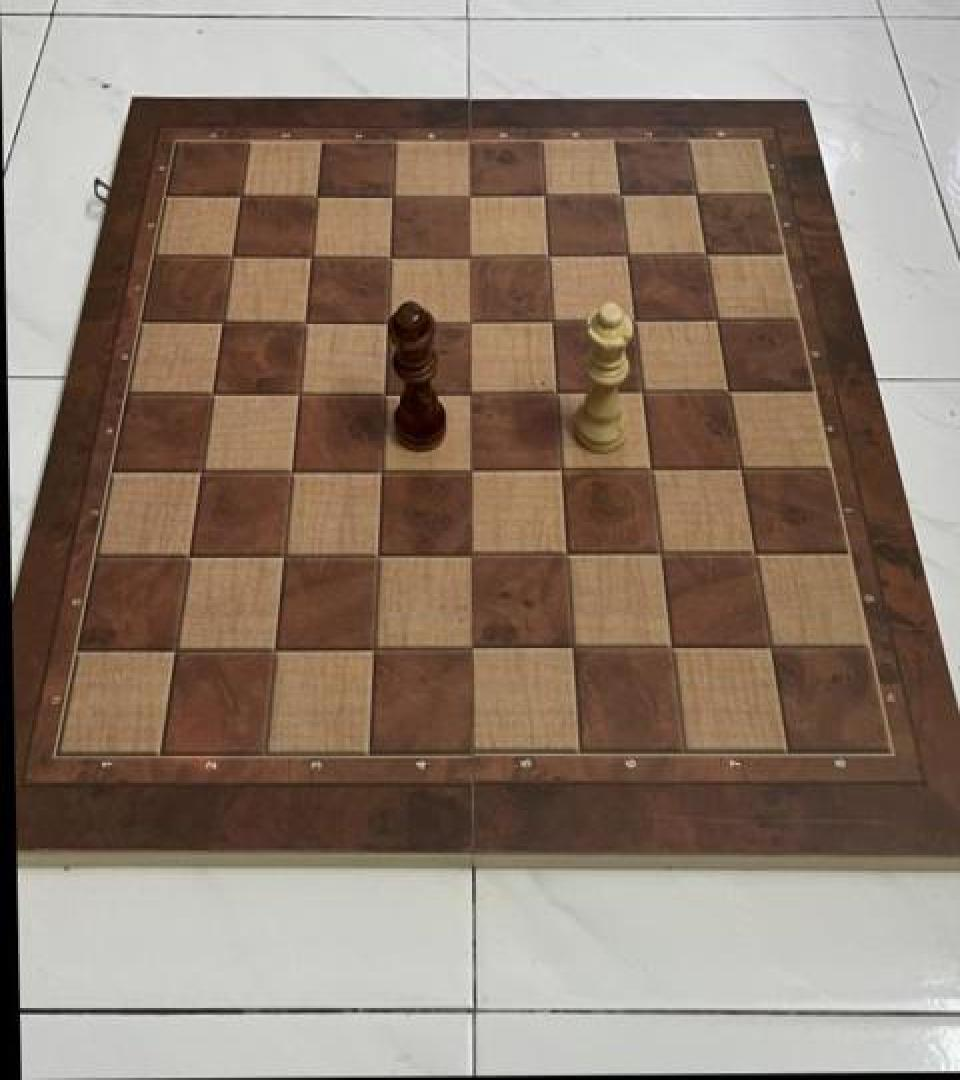xcorner: (681, 175, 715, 214), (605, 175, 639, 214), (529, 175, 563, 214), (453, 175, 487, 214), (376, 175, 410, 214), (300, 175, 334, 214), (224, 175, 258, 214), (691, 236, 725, 274), (611, 236, 645, 274), (532, 236, 566, 274), (453, 236, 487, 274), (374, 236, 408, 274), (294, 236, 328, 274), (215, 236, 249, 274), (701, 302, 735, 340), (618, 302, 652, 340), (536, 302, 570, 340), (453, 302, 487, 340), (371, 302, 405, 340), (288, 302, 322, 340), (205, 302, 239, 340), (712, 372, 746, 410), (626, 372, 660, 410), (540, 372, 574, 410), (454, 372, 488, 410), (367, 372, 401, 410), (281, 372, 315, 410), (195, 372, 229, 410), (724, 450, 758, 488), (634, 450, 668, 488), (544, 450, 578, 488), (454, 450, 488, 488), (364, 450, 398, 488), (273, 450, 307, 488), (183, 450, 217, 488), (738, 534, 772, 572), (643, 534, 677, 572), (549, 534, 583, 572), (454, 534, 488, 572), (360, 534, 394, 572), (265, 536, 299, 574), (171, 536, 205, 574), (752, 628, 786, 666), (653, 628, 687, 666), (554, 628, 588, 666), (455, 628, 489, 666), (356, 629, 390, 667), (256, 629, 290, 667), (157, 629, 191, 667)
